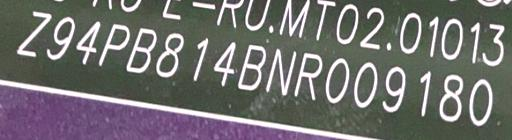letter: (16, 9, 52, 56), (466, 76, 498, 127), (294, 50, 326, 100), (436, 70, 466, 121), (126, 26, 158, 72), (264, 48, 296, 94), (380, 64, 410, 112), (236, 41, 266, 89), (322, 55, 352, 103), (153, 32, 185, 76), (351, 59, 381, 105), (48, 16, 80, 59), (99, 21, 131, 64), (210, 39, 238, 85), (77, 17, 105, 62), (188, 35, 212, 83), (412, 67, 434, 116)
